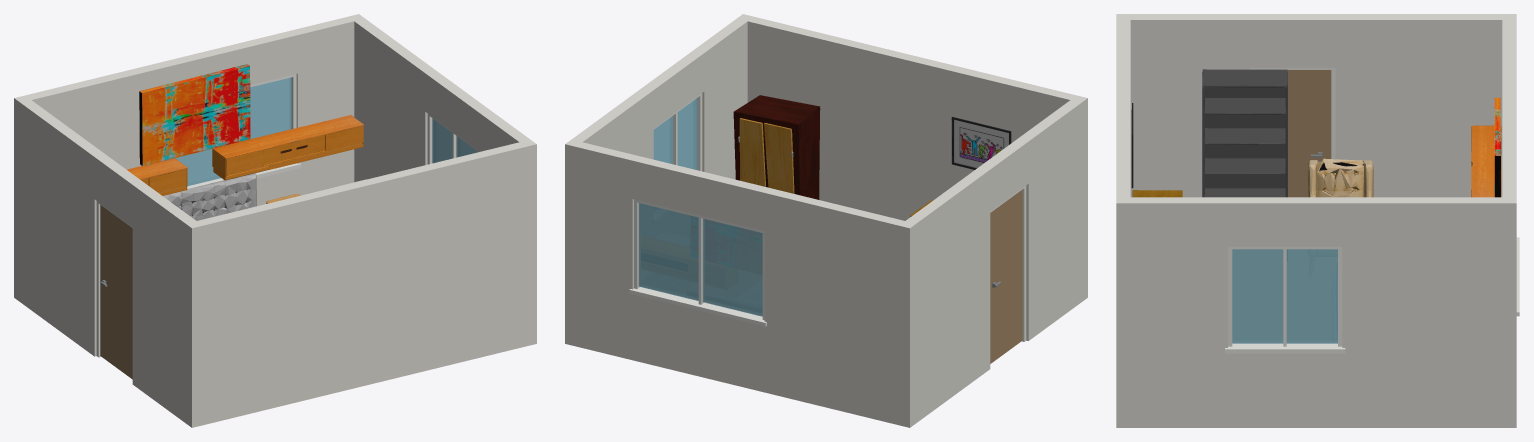
File: holodeck.glb
3 views of the same model, side by side, from view 1: azimuth 30°, elevation 25°; view 2: azimuth 150°, elevation 25°; view 3: azimuth 270°, elevation 25° (orthographic). The views are drawn at different scales.
Visible parts, largest first — view 1: wall|scenesmith_000__R00|0, wall|scenesmith_000__R00|2, wall|scenesmith_000__R00|1, wall|scenesmith_000__R00|3, scenesmith_000__R00_10, scenesmith_000__R00_8, wall|scenesmith_000__R00|2 Door 0 | wood leaf, wall|scenesmith_000__R00|1 Window 0 | glazing, scenesmith_000__R00_0, wall|scenesmith_000__R00|3 Window 0 | glazing, wall|scenesmith_000__R00|1 Window 0 | jamb, wall|scenesmith_000__R00|2 Door 0 | jamb (+1 smaller); view 2: wall|scenesmith_000__R00|1, wall|scenesmith_000__R00|0, wall|scenesmith_000__R00|2, wall|scenesmith_000__R00|3, wall|scenesmith_000__R00|1 Window 0 | glazing, scenesmith_000__R00_3, wall|scenesmith_000__R00|2 Door 0 | wood leaf, wall|scenesmith_000__R00|1 Window 0 | jamb, scenesmith_000__R00_11, wall|scenesmith_000__R00|3 Window 0 | glazing, wall|scenesmith_000__R00|3 Window 0 | jamb, wall|scenesmith_000__R00|2 Door 0 | jamb; view 3: wall|scenesmith_000__R00|3, wall|scenesmith_000__R00|2, scenesmith_000__R00_6, wall|scenesmith_000__R00|3 Window 0 | glazing, wall|scenesmith_000__R00|2 Door 0 | wood leaf, wall|scenesmith_000__R00|3 Window 0 | jamb, wall|scenesmith_000__R00|0, wall|scenesmith_000__R00|1, scenesmith_000__R00_7, scenesmith_000__R00_8, wall|scenesmith_000__R00|2 Door 0 | jamb, scenesmith_000__R00_10 (+1 smaller).
Boxes of the visible parts, <box> form: wall|scenesmith_000__R00|0: <box>185,142,526,427</box>; wall|scenesmith_000__R00|2: <box>14,95,202,427</box>; wall|scenesmith_000__R00|1: <box>25,16,354,206</box>; wall|scenesmith_000__R00|3: <box>348,14,536,346</box>; scenesmith_000__R00_10: <box>139,64,250,166</box>; scenesmith_000__R00_8: <box>127,115,363,195</box>; wall|scenesmith_000__R00|2 Door 0 | wood leaf: <box>100,205,132,379</box>; wall|scenesmith_000__R00|1 Window 0 | glazing: <box>175,77,291,186</box>; scenesmith_000__R00_0: <box>163,173,256,220</box>; wall|scenesmith_000__R00|3 Window 0 | glazing: <box>432,118,476,163</box>; wall|scenesmith_000__R00|1 Window 0 | jamb: <box>187,74,301,188</box>; wall|scenesmith_000__R00|2 Door 0 | jamb: <box>96,201,132,357</box>; wall|scenesmith_000__R00|1: <box>576,142,904,425</box>; wall|scenesmith_000__R00|0: <box>747,16,1087,301</box>; wall|scenesmith_000__R00|2: <box>899,95,1087,427</box>; wall|scenesmith_000__R00|3: <box>565,14,753,346</box>; wall|scenesmith_000__R00|1 Window 0 | glazing: <box>638,203,762,316</box>; scenesmith_000__R00_3: <box>733,95,820,199</box>; wall|scenesmith_000__R00|2 Door 0 | wood leaf: <box>990,189,1022,363</box>; wall|scenesmith_000__R00|1 Window 0 | jamb: <box>629,199,766,326</box>; scenesmith_000__R00_11: <box>951,117,1011,169</box>; wall|scenesmith_000__R00|3 Window 0 | glazing: <box>653,98,697,170</box>; wall|scenesmith_000__R00|3 Window 0 | jamb: <box>653,93,702,171</box>; wall|scenesmith_000__R00|2 Door 0 | jamb: <box>990,186,1026,341</box>; wall|scenesmith_000__R00|3: <box>1116,197,1516,427</box>; wall|scenesmith_000__R00|2: <box>1116,14,1516,197</box>; scenesmith_000__R00_6: <box>1202,69,1287,197</box>; wall|scenesmith_000__R00|3 Window 0 | glazing: <box>1232,249,1337,343</box>; wall|scenesmith_000__R00|2 Door 0 | wood leaf: <box>1287,70,1331,197</box>; wall|scenesmith_000__R00|3 Window 0 | jamb: <box>1225,246,1345,353</box>; wall|scenesmith_000__R00|0: <box>1116,20,1130,197</box>; wall|scenesmith_000__R00|1: <box>1502,20,1516,197</box>; scenesmith_000__R00_7: <box>1307,158,1373,197</box>; scenesmith_000__R00_8: <box>1471,125,1501,197</box>; wall|scenesmith_000__R00|2 Door 0 | jamb: <box>1250,67,1335,159</box>; scenesmith_000__R00_10: <box>1494,97,1500,197</box>.
Size of the model in its own units: 4.73 by 2.61 by 4.23.
16 materials, 10 textured.
